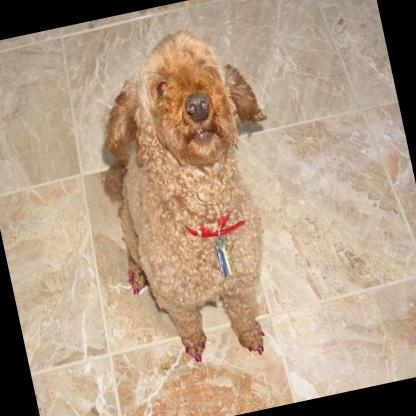miniature_poodle: (79, 14, 314, 376)
